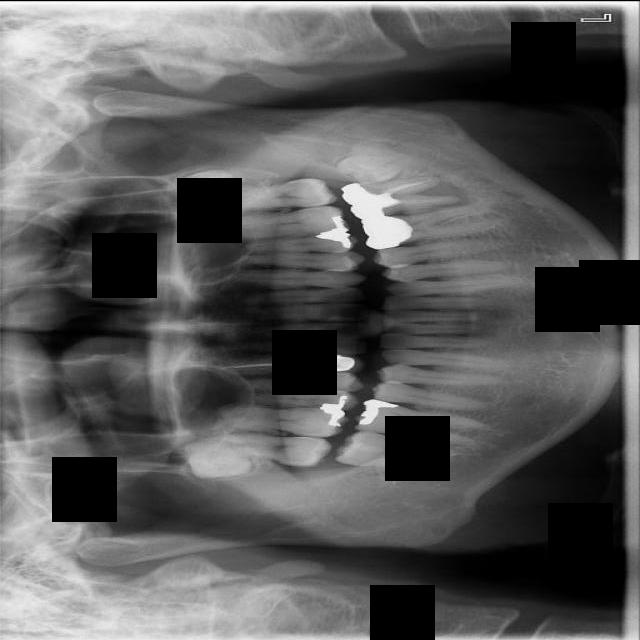3M ESPE Implant: (186, 438, 252, 478)
52: (337, 166, 417, 259), (352, 396, 413, 441), (296, 201, 350, 239), (291, 406, 353, 438), (315, 249, 368, 273), (307, 389, 361, 410), (307, 354, 365, 373), (309, 232, 360, 252)
73: (375, 172, 462, 214), (210, 356, 317, 376), (568, 36, 580, 46)
BioHorizons Implant: (182, 175, 339, 217)
BioLife Implant: (162, 164, 237, 206)
Biomet 3i Implant: (335, 135, 437, 185)
Blue Sky Bio Implant: (339, 166, 462, 222)
Caries: (196, 432, 332, 467)
Implant: (334, 425, 457, 480)
